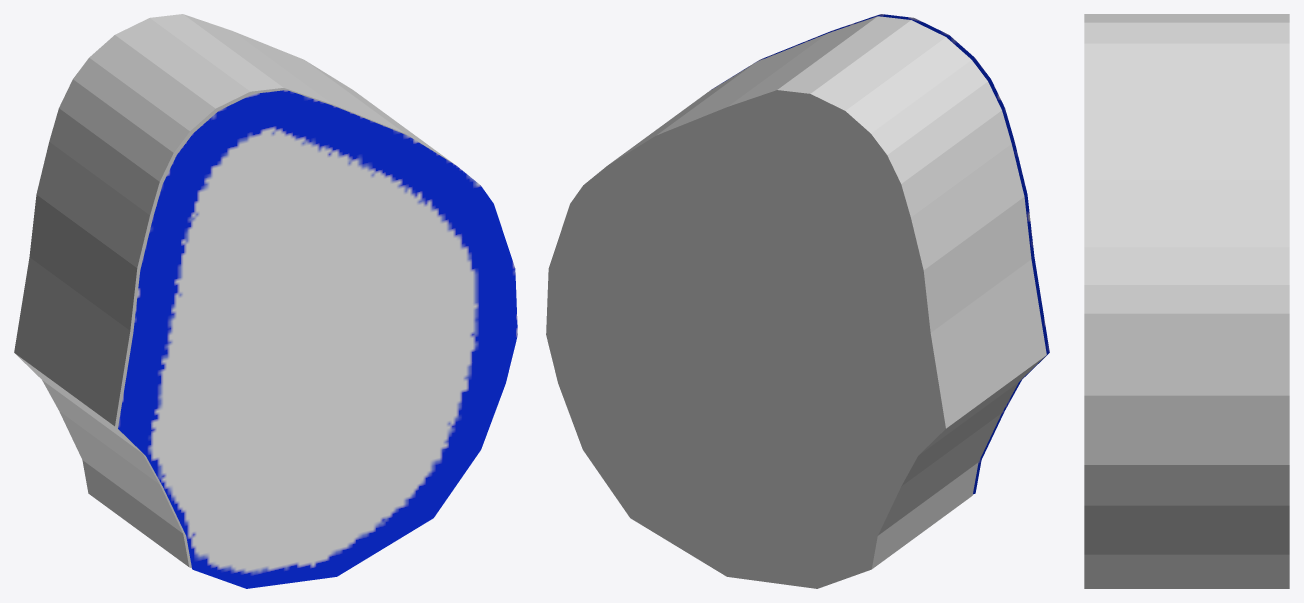
3 views of the same model, side by side, from view 1: azimuth 30°, elevation 25°; view 2: azimuth 150°, elevation 25°; view 3: azimuth 270°, elevation 25° (orthographic).
Visible parts, largest first — view 1: In_2_1, In_2_0; view 2: In_2_0, In_2_1; view 3: In_2_0.
Boxes of the visible parts, x1=… form: In_2_1: x1=118, y1=90, x2=517, y2=588; In_2_0: x1=14, y1=14, x2=454, y2=568; In_2_0: x1=546, y1=16, x2=1046, y2=588; In_2_1: x1=711, y1=14, x2=1049, y2=494; In_2_0: x1=1084, y1=14, x2=1289, y2=588.
Bounding box in the file's own units: 1.14 × 1.38 × 0.515.
2 materials, 1 textured.
